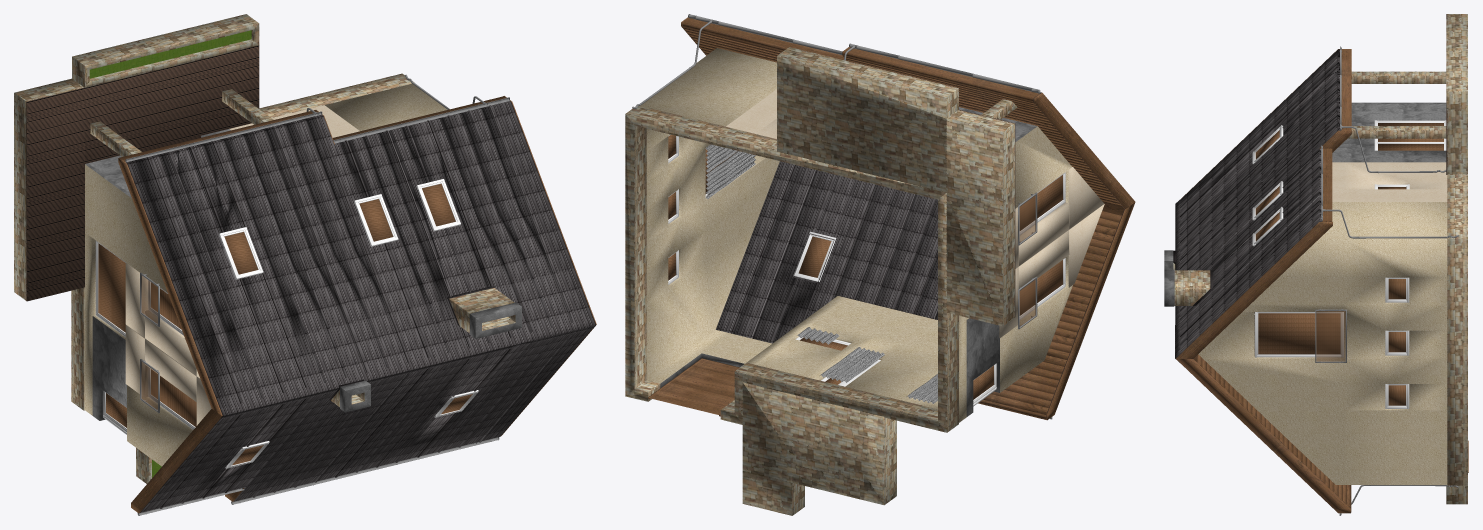
The model's file is European House N230925.obj.
3 renders of one model, left to right at view 1: azimuth 30°, elevation 25°; view 2: azimuth 150°, elevation 25°; view 3: azimuth 270°, elevation 25°, orthographic. The views are drawn at different scales.
Parts seen in each view (by area): view 1: Roof, Tiles1, Bricks1, Wall1, Wall_Decor_21, Glass1, Wood1, Frame, Wall_Decor1, Tubes, Wall_Decor, Grass (+5 smaller); view 2: Bricks, Wall, Roof, Wood, Wall1, Bricks1, Wood1, Wall_Decor_21, Curtains, Glass1, Wall_Decor1, Frame (+5 smaller); view 3: Wall1, Roof, Bricks1, Wood1, Glass1, Wall_Decor_21, Wall_Decor1, Frame, Wood, Glass_Mate, Tubes, Wall_Decor (+1 smaller).
Part boxes in pixels (box(x1,y1,x2,y2)): Roof: box(126, 101, 595, 512); Tiles1: box(27, 45, 259, 301); Bricks1: box(14, 14, 514, 483); Wall1: box(84, 83, 447, 466); Wall_Decor_21: box(125, 105, 359, 425); Glass1: box(98, 184, 455, 427); Wood1: box(118, 96, 505, 513); Frame: box(95, 179, 478, 468); Wall_Decor1: box(85, 129, 475, 420); Tubes: box(125, 74, 509, 515); Wall_Decor: box(99, 136, 521, 420); Grass: box(89, 30, 251, 477); Bricks: box(625, 56, 1002, 515); Wall: box(646, 118, 1068, 409); Roof: box(716, 92, 1124, 412); Wood: box(648, 17, 1125, 419); Wall1: box(640, 48, 1072, 422); Bricks1: box(625, 47, 1017, 515); Wood1: box(649, 18, 1135, 419); Wall_Decor_21: box(726, 89, 1104, 337); Curtains: box(706, 144, 937, 403); Glass1: box(973, 175, 1062, 399); Wall_Decor1: box(959, 107, 1037, 416); Frame: box(668, 134, 1065, 406); Wall1: box(1198, 202, 1447, 484); Roof: box(1173, 49, 1339, 480); Bricks1: box(1173, 14, 1467, 504); Wood1: box(1176, 49, 1468, 513); Glass1: box(1255, 123, 1443, 405); Wall_Decor_21: box(1332, 162, 1447, 201); Wall_Decor1: box(1164, 102, 1446, 269); Frame: box(1252, 120, 1446, 408); Wood: box(1176, 49, 1468, 508); Glass_Mate: box(1316, 311, 1345, 361); Tubes: box(1321, 46, 1458, 515); Wall_Decor: box(1164, 117, 1446, 306).
Bounding box in the file's own units: 13898 × 15177 × 10520.
13 materials, 11 textured.
